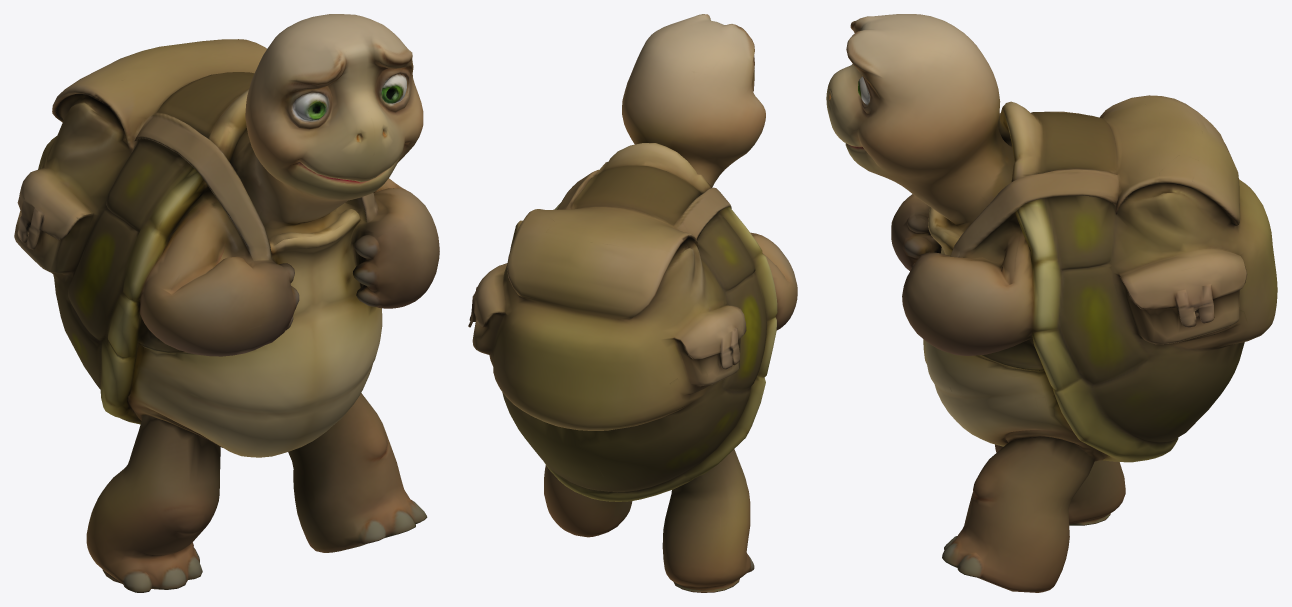
Rendered from Tortuga Poruga.glb.
3 renders of one model, left to right at view 1: azimuth 30°, elevation 25°; view 2: azimuth 150°, elevation 25°; view 3: azimuth 270°, elevation 25°, orthographic. The views are drawn at different scales.
Parts seen in each view (by area): view 1: material; view 2: material; view 3: material.
Boxes of the visible parts, x1,y1,x2,y2 form: material: (14, 14, 439, 592); material: (468, 14, 797, 592); material: (826, 14, 1277, 592).
Bounding box in the file's own units: 1.07 × 1.9 × 1.45.
Materials: 1 (1 with a texture image).
